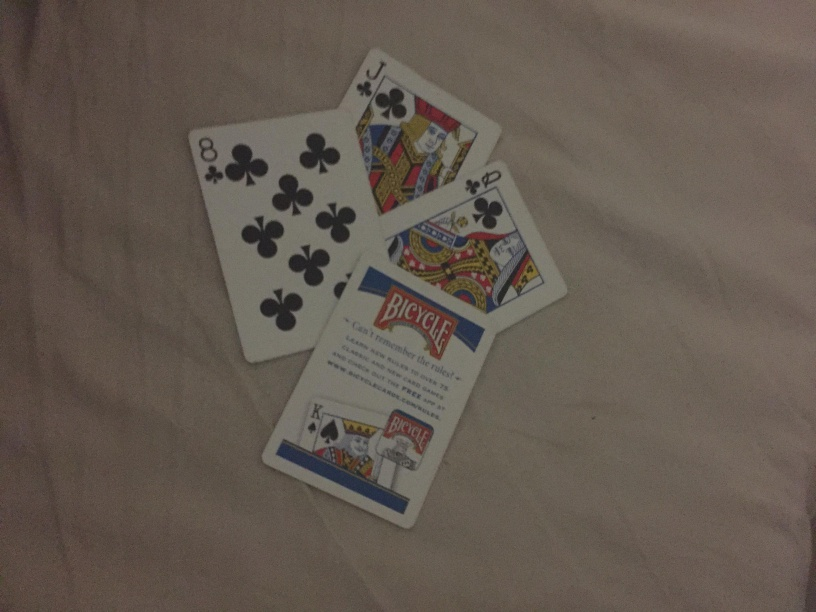8: (175, 108, 385, 366)
jack: (330, 45, 503, 214)
queen: (386, 158, 568, 332)
